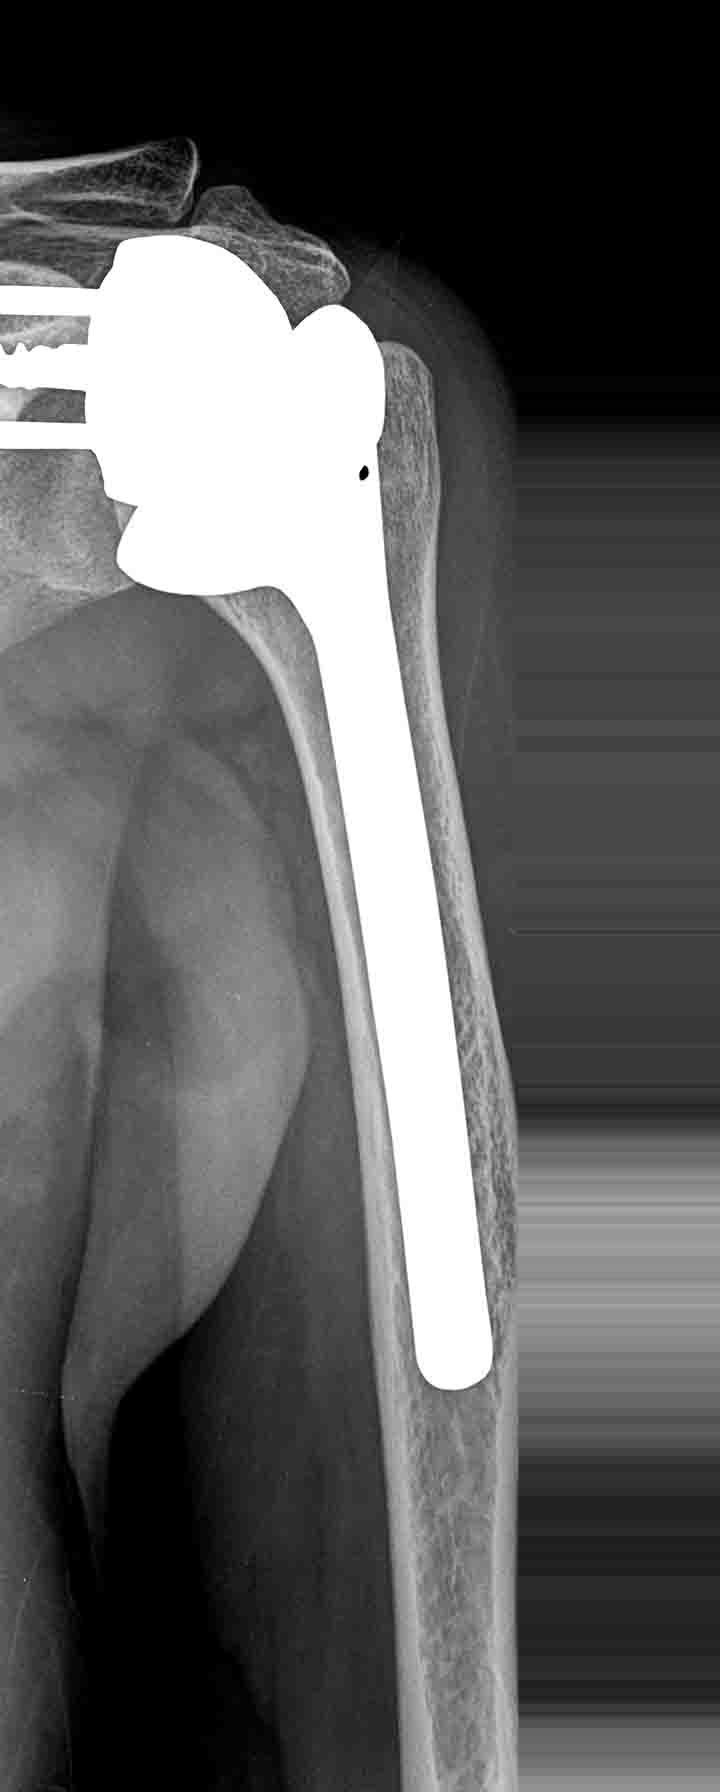Shoulder-Reverse-DJO: (3, 190, 494, 1405)
